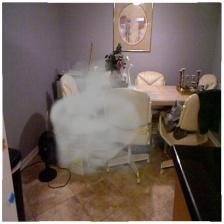fire: (47, 58, 174, 185)
